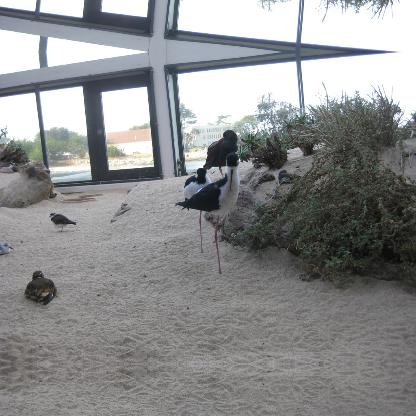Bird: (182, 167, 212, 253), (201, 128, 237, 178), (26, 268, 56, 302), (46, 211, 78, 231), (0, 238, 14, 256)
